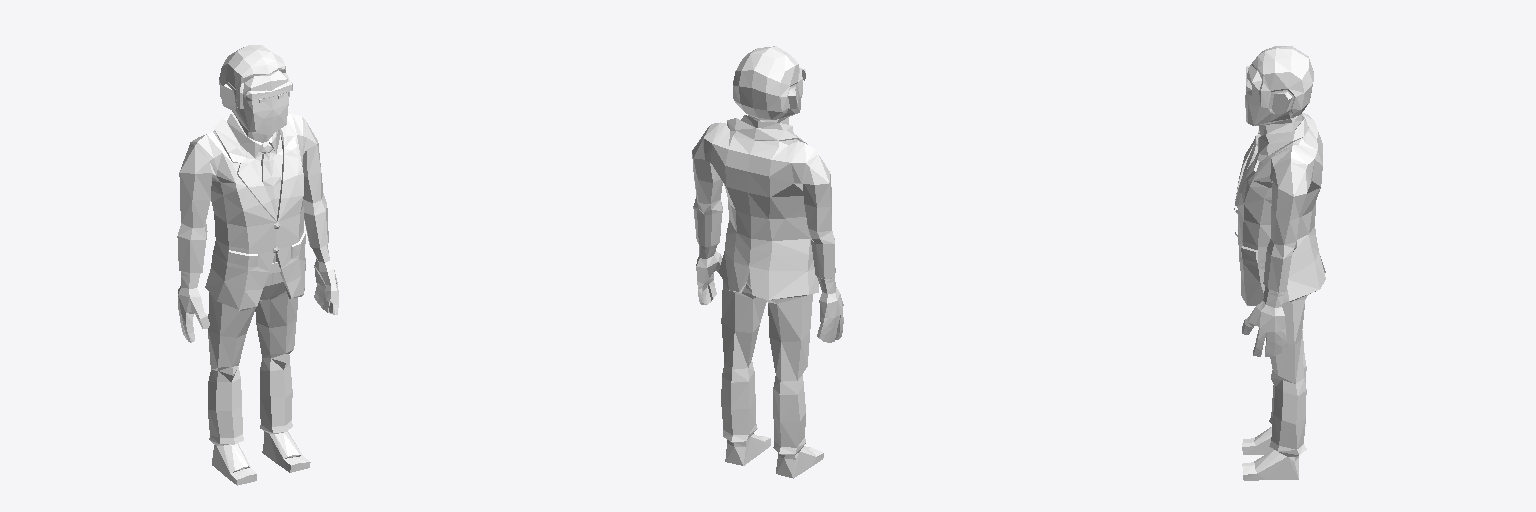
File: OldMan.obj
The picture shows the model from 3 angles: view 1: azimuth 30°, elevation 25°; view 2: azimuth 150°, elevation 25°; view 3: azimuth 270°, elevation 25°; orthographic projection.
Parts seen in each view (by area): view 1: Character_BusinessMan_Suit_Mesh.004; view 2: Character_BusinessMan_Suit_Mesh.004; view 3: Character_BusinessMan_Suit_Mesh.004.
Boxes of the visible parts, box(x1,y1,x2,y2) form: Character_BusinessMan_Suit_Mesh.004: box(177, 45, 338, 485); Character_BusinessMan_Suit_Mesh.004: box(692, 46, 843, 478); Character_BusinessMan_Suit_Mesh.004: box(1234, 46, 1325, 480).
Bounding box in the file's own units: 0.6798 × 1.83 × 0.3678.